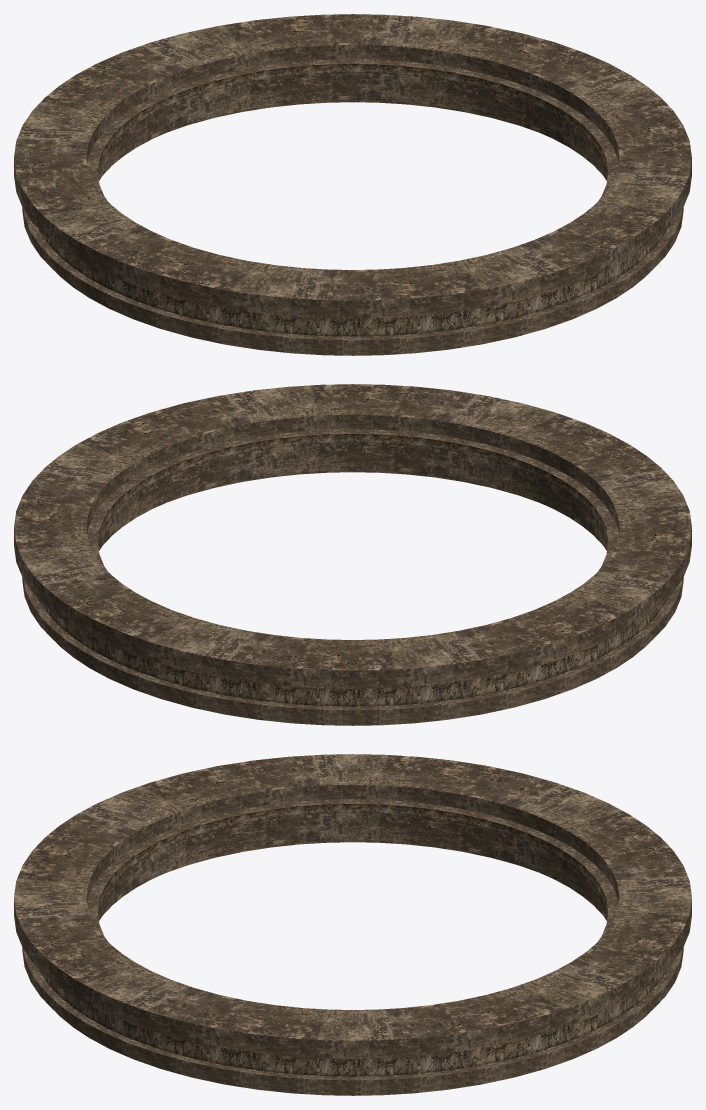
File: materials_5_floor_donut_2.fbx
The picture shows the model from 3 angles, top to bottom: view 1: azimuth 30°, elevation 25°; view 2: azimuth 150°, elevation 25°; view 3: azimuth 270°, elevation 25°; orthographic projection.
Visible parts, largest first — view 1: materials_5_floor_donut_2; view 2: materials_5_floor_donut_2; view 3: materials_5_floor_donut_2.
Part boxes in pixels (x1,y1,x2,y2): materials_5_floor_donut_2: (14, 14, 691, 355); materials_5_floor_donut_2: (14, 384, 691, 725); materials_5_floor_donut_2: (14, 754, 691, 1095).
Size of the model in its own units: 786 by 79.48 by 786.
